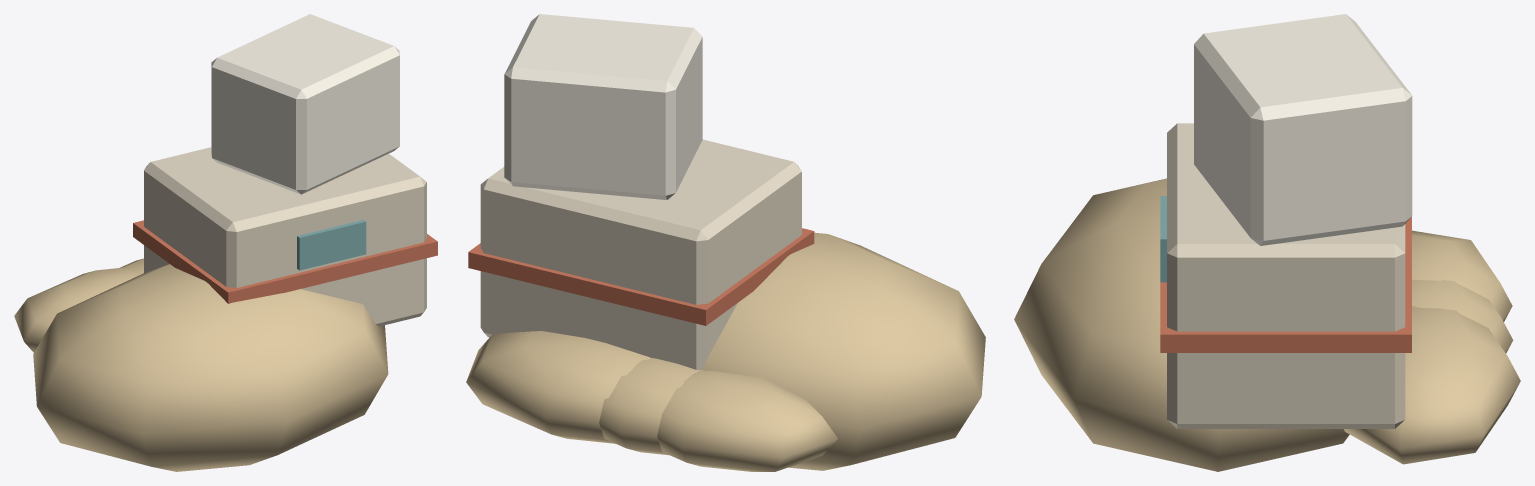
File: du_cart.glb
3 renders of one model, left to right at view 1: azimuth 30°, elevation 25°; view 2: azimuth 150°, elevation 25°; view 3: azimuth 270°, elevation 25°, orthographic. The views are drawn at different scales.
Parts seen in each view (by area): view 1: du_cart; view 2: du_cart; view 3: du_cart.
Part boxes in pixels (<box>): du_cart: <box>14,14,437,471</box>; du_cart: <box>466,14,985,471</box>; du_cart: <box>1014,14,1520,471</box>.
Size of the model in its own units: 1.7 by 1.46 by 1.49.
